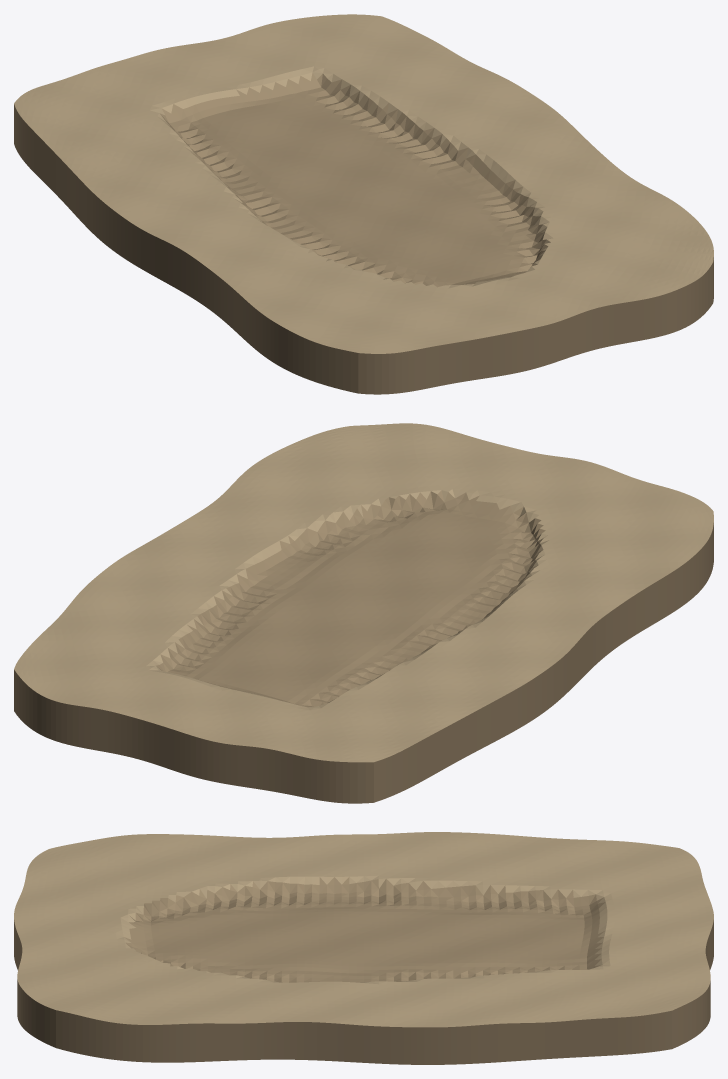
Rendered from kimberella.glb.
The picture shows the model from 3 angles, top to bottom: view 1: azimuth 30°, elevation 25°; view 2: azimuth 150°, elevation 25°; view 3: azimuth 270°, elevation 25°; orthographic projection. The views are drawn at different scales.
Visible parts, largest first — view 1: P49391_informed_Kimberella_negative_external_mould_with_marg; view 2: P49391_informed_Kimberella_negative_external_mould_with_marg; view 3: P49391_informed_Kimberella_negative_external_mould_with_marg.
Part boxes in pixels (<box>): P49391_informed_Kimberella_negative_external_mould_with_marg: <box>14,14,713,394</box>; P49391_informed_Kimberella_negative_external_mould_with_marg: <box>14,423,713,803</box>; P49391_informed_Kimberella_negative_external_mould_with_marg: <box>14,832,713,1064</box>.
Bounding box in the file's own units: 0.0668 × 0.00617 × 0.1012.
